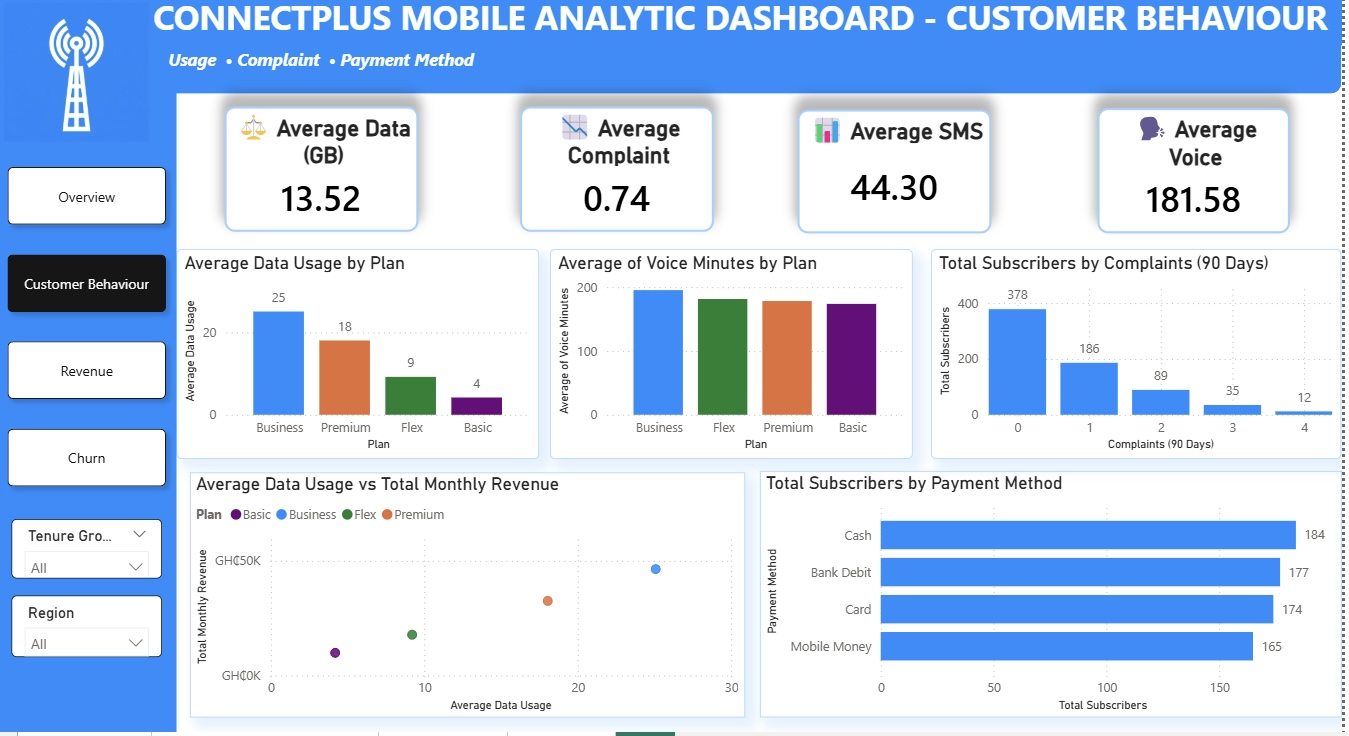

What the dashboard file says about the page in this screenshot:
{"tool":"powerbi","page":{"name":"Customer Behaviour","canvas":[1280,720],"ordinal":1},"visuals":[{"type":"shape","box":[0,0,1279.5,112.1],"z":0},{"type":"textbox","box":[142.3,12.1,1137.2,54.5],"z":1000},{"type":"cardVisual","title":"🗣️ Average Voice","fields":{"Data":["Avg(Subscribers_RAW.Voice Minutes)"]},"box":[1047.8,125.7,183.2,119.6],"z":2000},{"type":"cardVisual","title":"📊 Average SMS","fields":{"Data":["Avg(Subscribers_RAW.SMS Count)"]},"box":[761.6,127.2,184.7,118.1],"z":3000},{"type":"cardVisual","title":"📉 Average Complaint","fields":{"Data":["Regions.Average Complaints"]},"box":[496.7,124.2,184.7,119.6],"z":4000},{"type":"cardVisual","title":"⚖️ Average Data (GB)","fields":{"Data":["Regions.Average Data Usage"]},"box":[215,124.2,184.7,119.6],"z":5000},{"type":"clusteredColumnChart","fields":{"Category":["Plans.Plan"],"Y":["Regions.Average Data Usage"]},"box":[169.6,260.4,345.2,199.9],"z":6000},{"type":"clusteredColumnChart","fields":{"Category":["Plans.Plan"],"Y":["Avg(Subscribers_RAW.Voice Minutes)"]},"box":[525.4,260.4,345.2,199.9],"z":7000},{"type":"scatterChart","title":"Average Data Usage vs Total Monthly Revenue ","fields":{"Y":["Regions.Total Monthly Revenue"],"Series":["Plans.Plan"],"X":["Regions.Average Data Usage"]},"box":[183.3,473.3,528.3,233.3],"z":8000},{"type":"barChart","fields":{"Category":["Subscribers_RAW.Payment Method"],"Y":["Regions.Total Subscribers"]},"box":[725.3,470.9,554.2,234.7],"z":9000},{"type":"clusteredColumnChart","fields":{"Category":["Subscribers_RAW.Complaints (90 Days)"],"Y":["Regions.Total Subscribers"]},"box":[888.8,260.4,390.7,199.9],"z":10000},{"type":"shape","box":[0,98.3,170,621.7],"z":11000},{"type":"pageNavigator","box":[0,172.6,169.6,324],"z":12000},{"type":"image","box":[6.1,12.1,137.8,160.5],"z":13000},{"type":"slicer","fields":{"Values":["Subscribers_RAW.Tenure Group"]},"box":[13.3,516.7,143.3,56.7],"z":14000},{"type":"slicer","fields":{"Values":["Regions.Region"]},"box":[13.3,590,143.3,58.3],"z":15000},{"type":"textbox","box":[156.7,63.3,306.7,35],"z":16000}]}

Visuals, with their boxes on the page's 1280x720 design canvas (x1, y1, x2, y2). These are canvas units, not pixel positions in the 1349x736 screenshot, which may show the page scaled, cropped or inside an application window:
shape: bbox=[0, 0, 1280, 112]
textbox: bbox=[142, 12, 1280, 67]
"🗣️ Average Voice" cardVisual: bbox=[1048, 126, 1231, 245]
"📊 Average SMS" cardVisual: bbox=[762, 127, 946, 245]
"📉 Average Complaint" cardVisual: bbox=[497, 124, 681, 244]
"⚖️ Average Data (GB)" cardVisual: bbox=[215, 124, 400, 244]
clusteredColumnChart - Plans.Plan x Regions.Average Data Usage: bbox=[170, 260, 515, 460]
clusteredColumnChart - Plans.Plan x Avg(Subscribers_RAW.Voice Minutes): bbox=[525, 260, 871, 460]
"Average Data Usage vs Total Monthly Revenue " scatterChart: bbox=[183, 473, 712, 707]
barChart - Subscribers_RAW.Payment Method x Regions.Total Subscribers: bbox=[725, 471, 1280, 706]
clusteredColumnChart - Subscribers_RAW.Complaints (90 Days) x Regions.Total Subscribers: bbox=[889, 260, 1280, 460]
shape: bbox=[0, 98, 170, 720]
pageNavigator: bbox=[0, 173, 170, 497]
image: bbox=[6, 12, 144, 173]
slicer - Subscribers_RAW.Tenure Group: bbox=[13, 517, 157, 573]
slicer - Regions.Region: bbox=[13, 590, 157, 648]
textbox: bbox=[157, 63, 463, 98]
